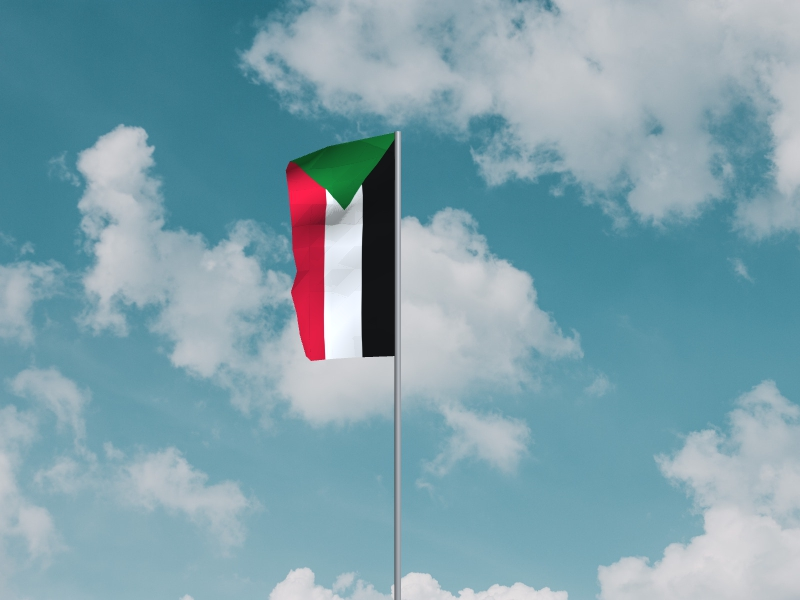sd: (285, 134, 395, 362)
